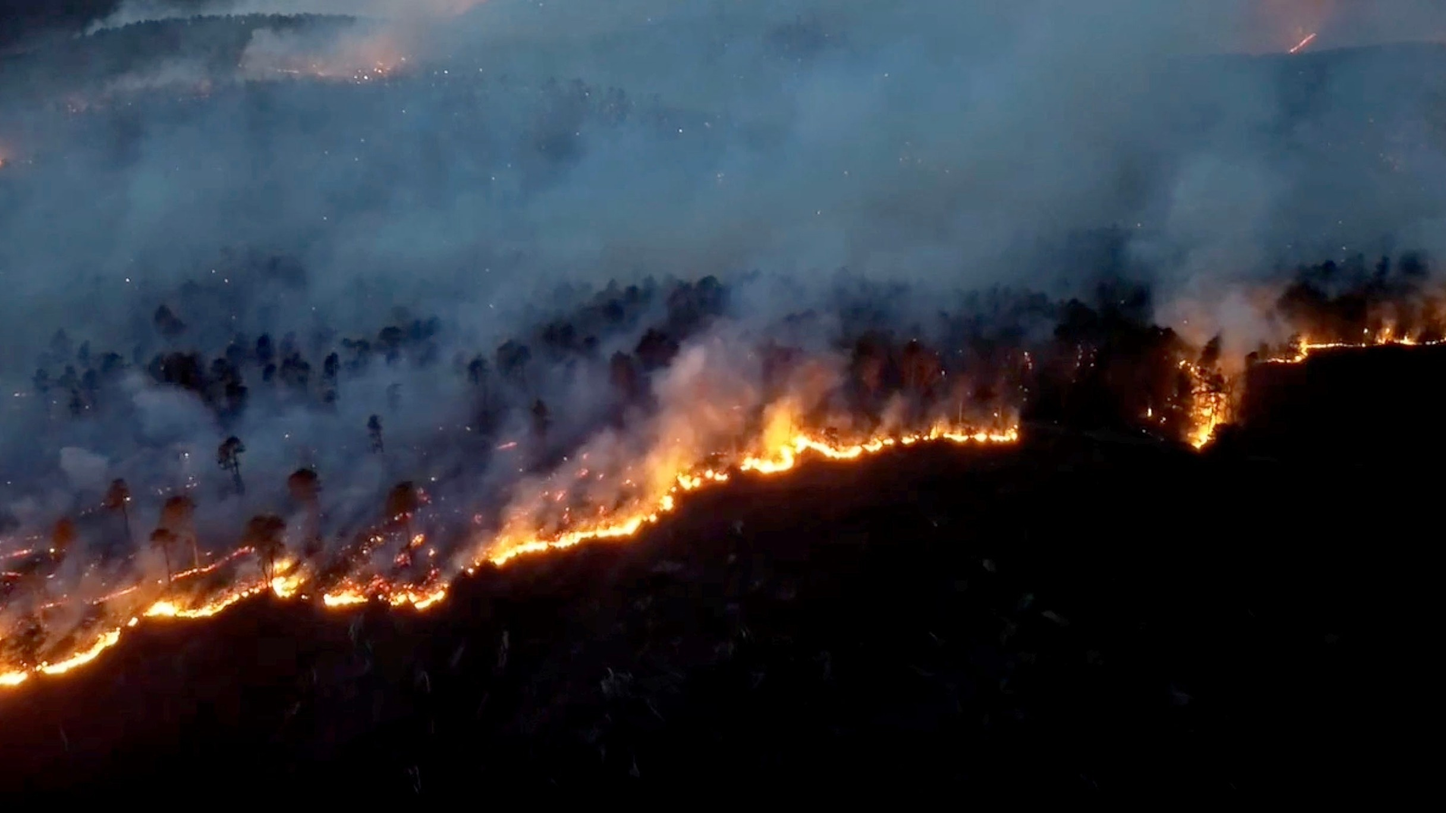forest_fire: (461, 423, 1020, 575), (0, 559, 305, 689), (1249, 324, 1445, 363), (318, 576, 449, 610), (1184, 385, 1236, 449)
